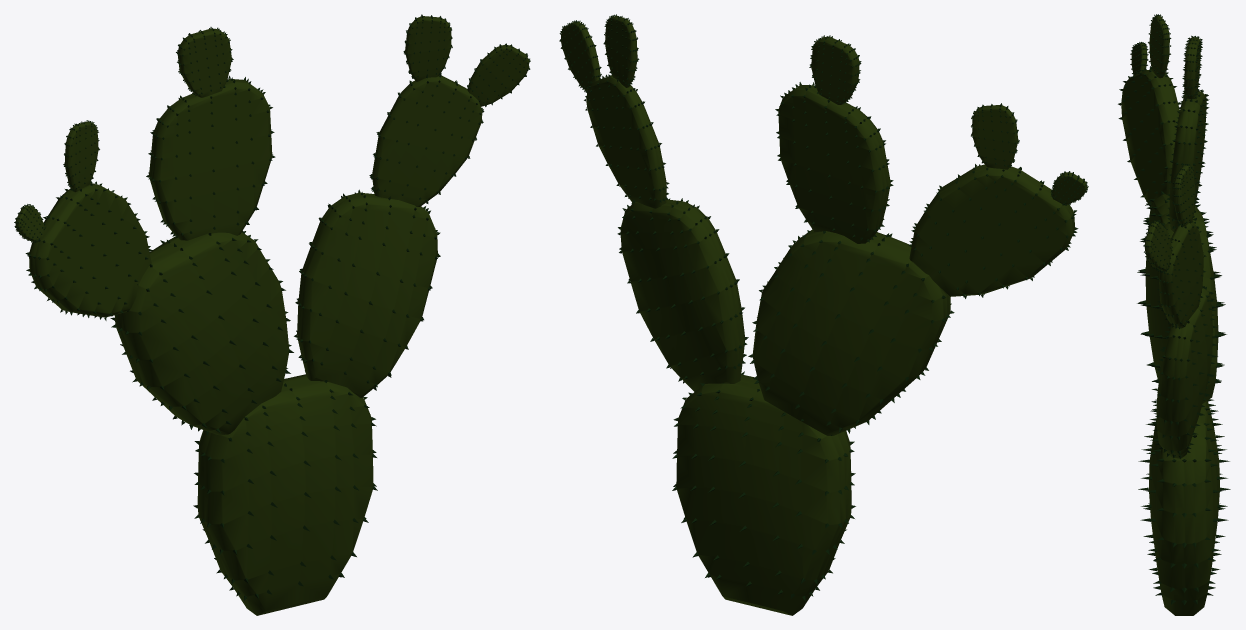
The model's file is BigNopal.FBX.
3 views of the same model, side by side, from view 1: azimuth 30°, elevation 25°; view 2: azimuth 150°, elevation 25°; view 3: azimuth 270°, elevation 25° (orthographic). The views are drawn at different scales.
Parts seen in each view (by area): view 1: BigNopal; view 2: BigNopal; view 3: BigNopal.
Boxes of the visible parts, x1,y1,x2,y2 form: BigNopal: (14, 14, 530, 615); BigNopal: (559, 14, 1088, 615); BigNopal: (1118, 14, 1230, 615).
Size of the model in its own units: 67.02 by 72.33 by 14.17.
